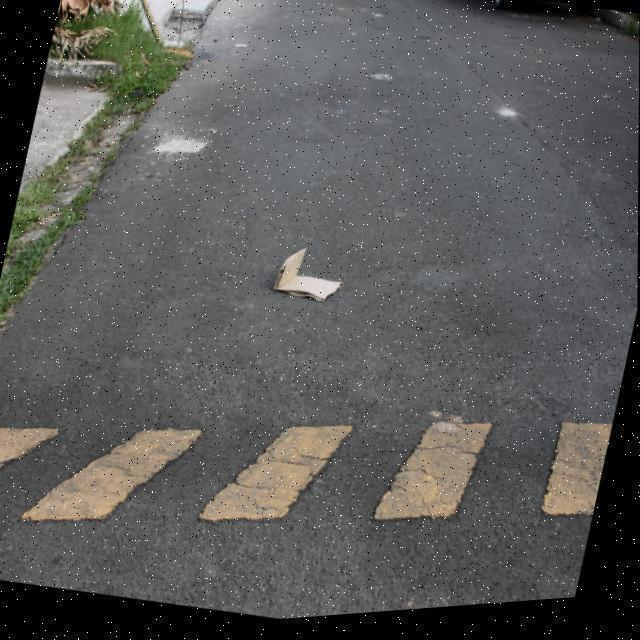Paper_Bag: (272, 244, 348, 314)
